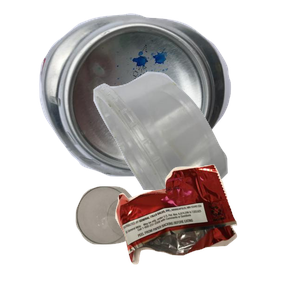glass: (73, 184, 214, 300)
metal: (37, 11, 261, 180)
plastic: (91, 69, 300, 249)
trash: (113, 162, 300, 300)
